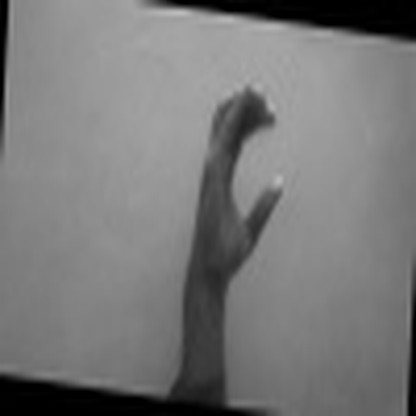c: (185, 80, 294, 276)
